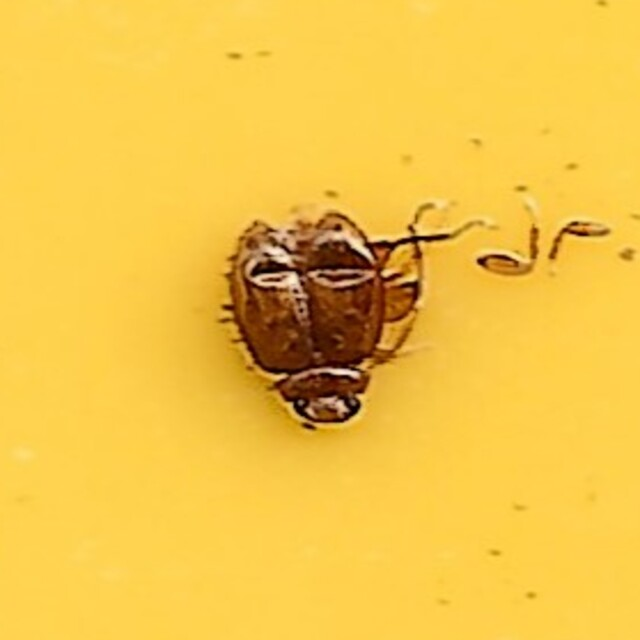Coleoptera: (229, 207, 411, 433)
